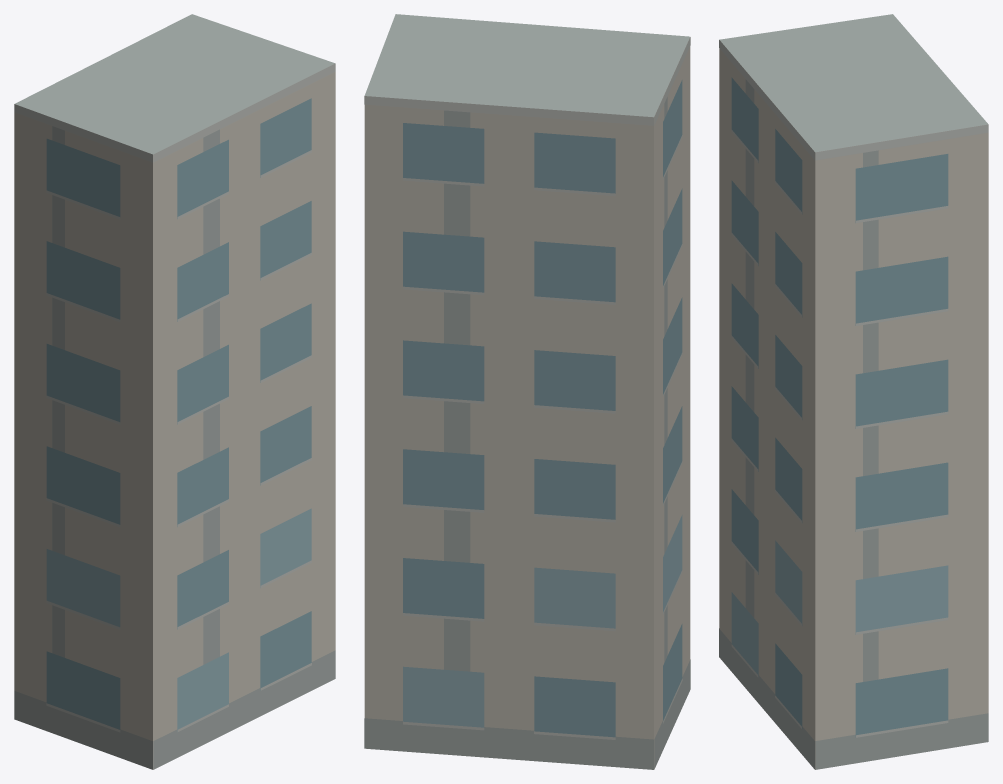
Rendered from survey-upis-33018384.glb.
3 renders of one model, left to right at view 1: azimuth 30°, elevation 25°; view 2: azimuth 150°, elevation 25°; view 3: azimuth 270°, elevation 25°, orthographic. The views are drawn at different scales.
Visible parts, largest first — view 1: survey-upis-33018384.tmp; view 2: survey-upis-33018384.tmp; view 3: survey-upis-33018384.tmp.
Part boxes in pixels (left/top/right/bottom): survey-upis-33018384.tmp: left=14, top=14, right=335, bottom=769; survey-upis-33018384.tmp: left=364, top=14, right=690, bottom=769; survey-upis-33018384.tmp: left=719, top=14, right=988, bottom=769.
Bounding box in the file's own units: 8.8 × 18.3 × 7.25.
